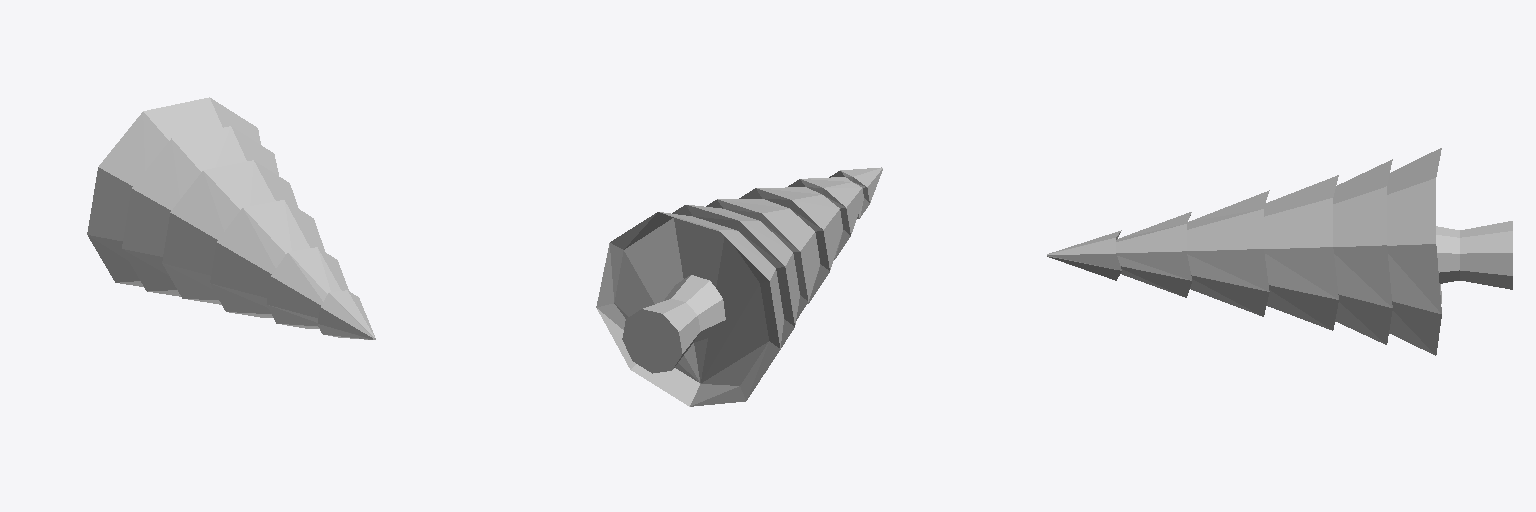
The model's file is ideal_tree_mv.obj.
3 renders of one model, left to right at view 1: azimuth 30°, elevation 25°; view 2: azimuth 150°, elevation 25°; view 3: azimuth 270°, elevation 25°, orthographic.
Visible parts, largest first — view 1: Cylinder; view 2: Cylinder; view 3: Cylinder.
Boxes of the visible parts, <box> form: Cylinder: <box>87,97,375,339</box>; Cylinder: <box>596,167,882,406</box>; Cylinder: <box>1047,148,1512,355</box>.
Size of the model in its own units: 2.31 by 2.28 by 5.12.